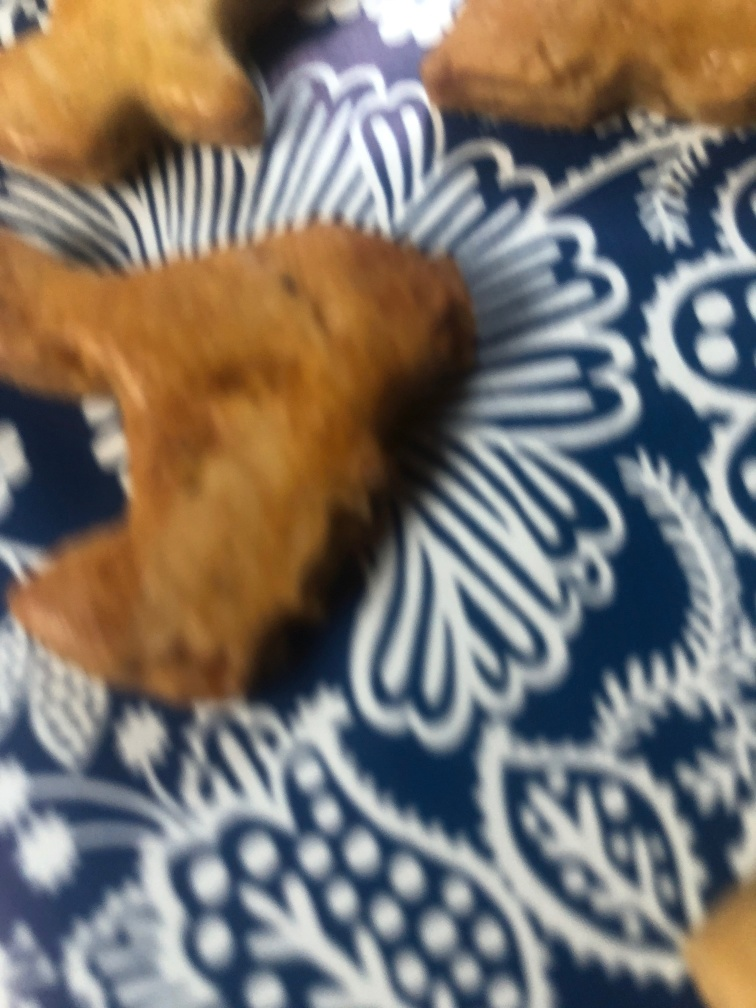squirrel: (1, 203, 486, 720)
